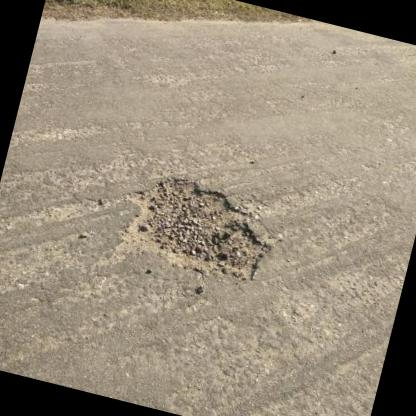pothole: (110, 163, 284, 289)
